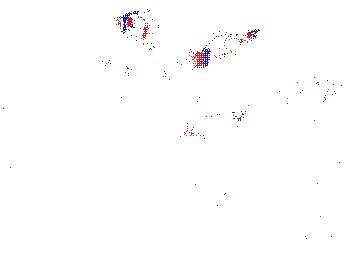X-ray fish: (113, 8, 165, 47)
glassfish: (172, 105, 254, 140)
redtail glassfish: (196, 25, 260, 71), (102, 55, 176, 87), (251, 62, 318, 95)
